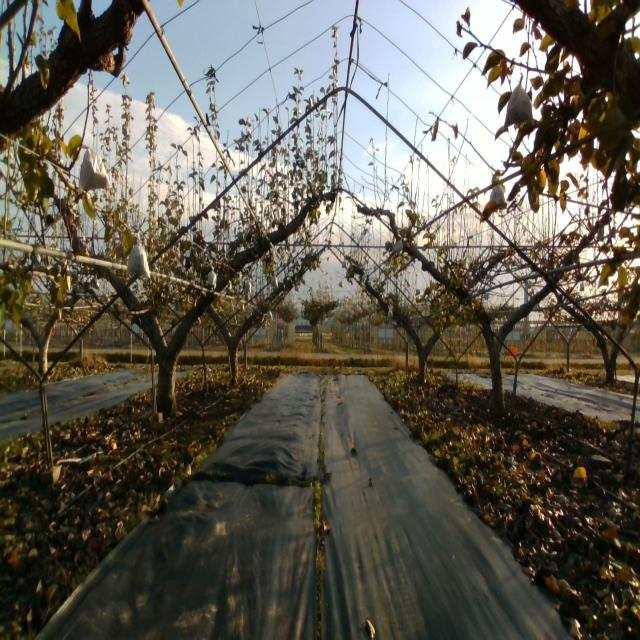pearbags: (78, 142, 111, 193), (504, 73, 534, 128), (126, 233, 150, 280), (489, 184, 507, 204), (392, 240, 403, 257)
